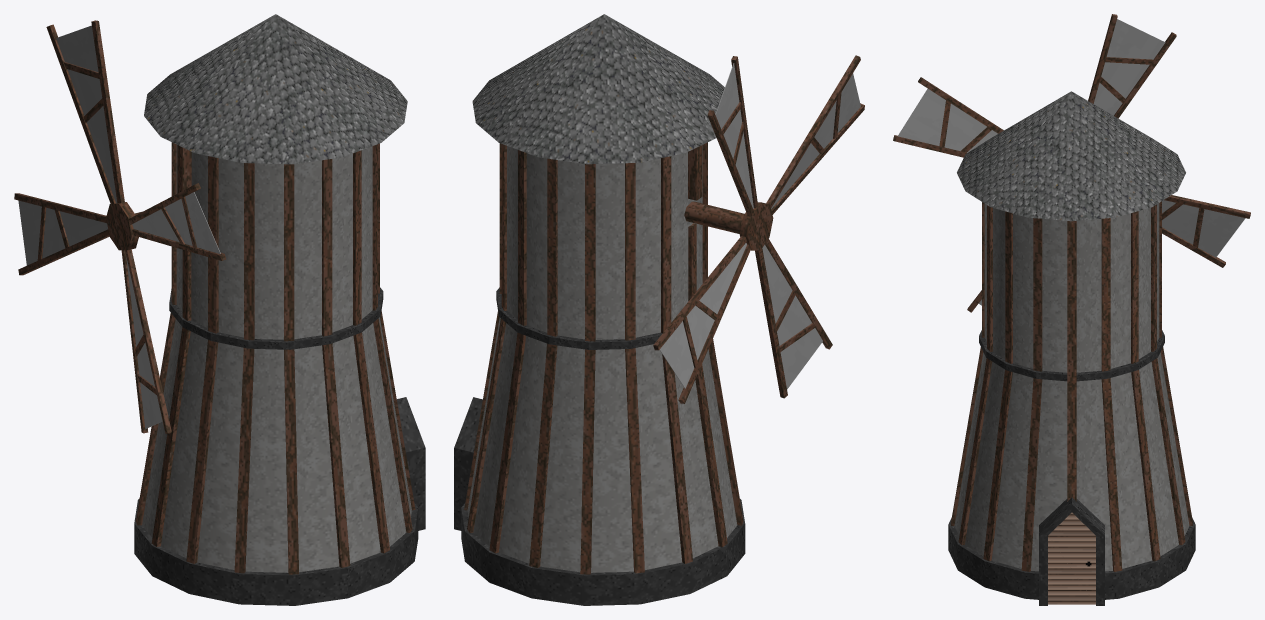
Rendered from L1_Village_windmill1.fbx.
3 renders of one model, left to right at view 1: azimuth 30°, elevation 25°; view 2: azimuth 150°, elevation 25°; view 3: azimuth 270°, elevation 25°, orthographic. The views are drawn at different scales.
Parts seen in each view (by area): view 1: WindmillP1, WindmillP2Propeller; view 2: WindmillP1, WindmillP2Propeller; view 3: WindmillP1, WindmillP2Propeller.
Part boxes in pixels (left/top/right/bottom): WindmillP1: left=134, top=14, right=425, bottom=605; WindmillP2Propeller: left=14, top=20, right=225, bottom=433; WindmillP1: left=454, top=14, right=745, bottom=605; WindmillP2Propeller: left=653, top=55, right=864, bottom=403; WindmillP1: left=948, top=91, right=1195, bottom=605; WindmillP2Propeller: left=893, top=14, right=1250, bottom=312.
Size of the model in its own units: 617 by 1075 by 741.
